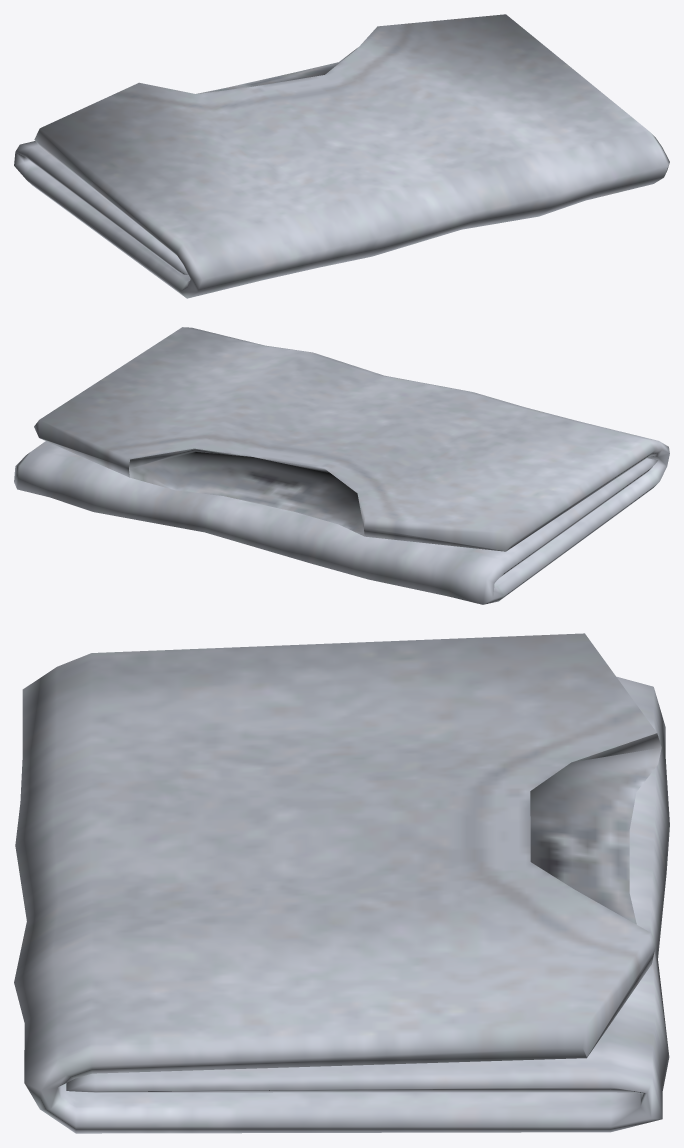
File: paris_t_shirt_folded_base_lod0.glb
3 renders of one model, top to bottom at view 1: azimuth 30°, elevation 25°; view 2: azimuth 150°, elevation 25°; view 3: azimuth 270°, elevation 25°, orthographic. The views are drawn at different scales.
Visible parts, largest first — view 1: surf0; view 2: surf0; view 3: surf0.
Part boxes in pixels (box(x1,y1,x2,y2)): surf0: box(14, 14, 669, 298); surf0: box(14, 327, 669, 604); surf0: box(14, 633, 669, 1133).
Bounding box in the file's own units: 14.73 × 2.11 × 10.1.
